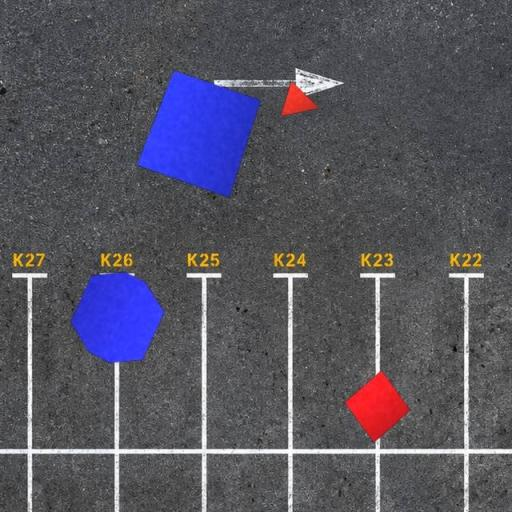BLUE_SQUARE: (136, 70, 262, 198)
RED_SQUARE: (344, 370, 411, 444)
